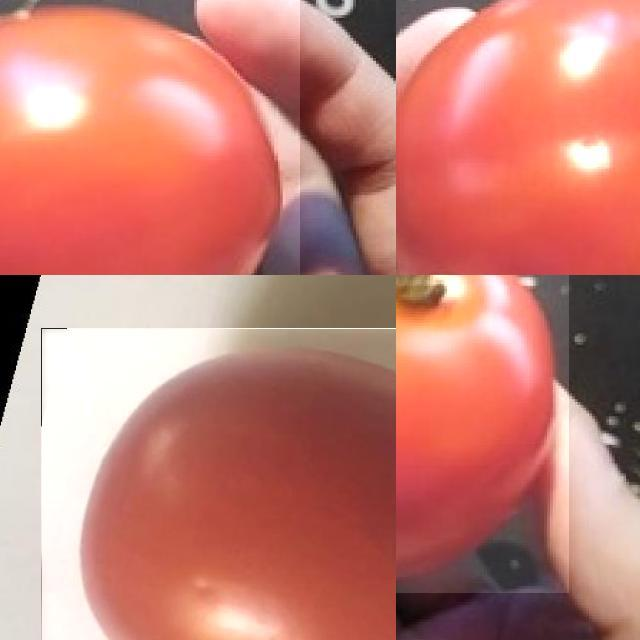Fresh Tomato: (41, 328, 396, 640), (0, 0, 300, 275), (396, 0, 640, 275), (396, 275, 569, 593)
